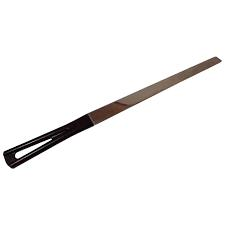Knife: (2, 55, 222, 168)
